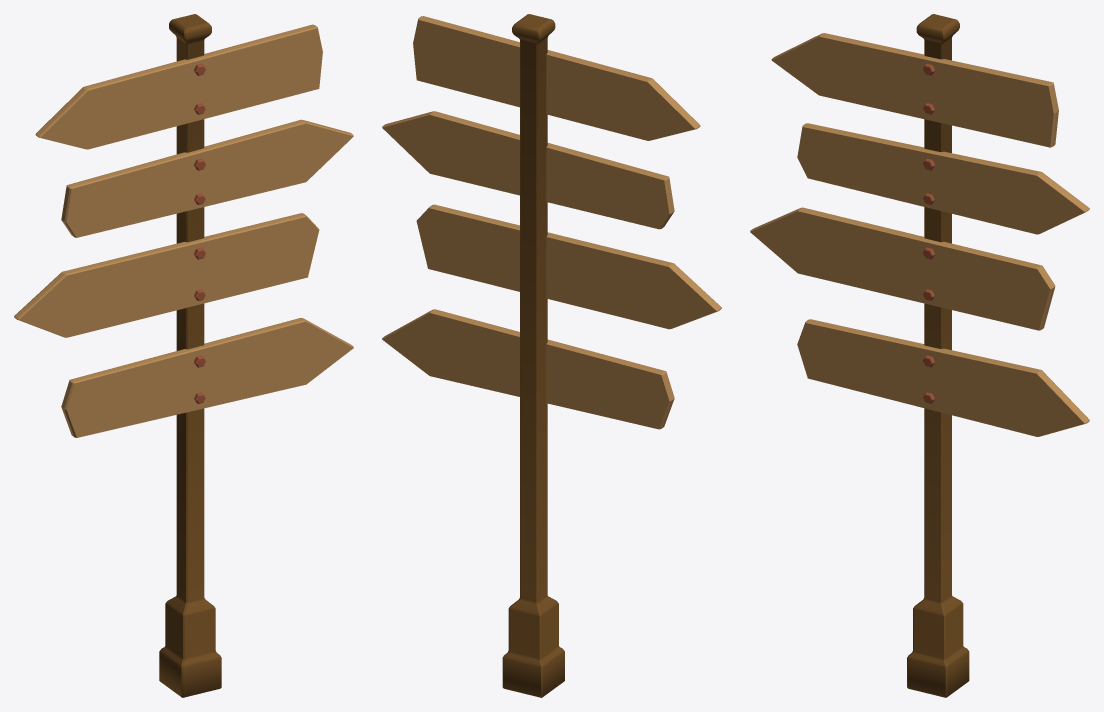
The model's file is props_74.gltf.
The picture shows the model from 3 angles, left to right: view 1: azimuth 30°, elevation 25°; view 2: azimuth 150°, elevation 25°; view 3: azimuth 330°, elevation 25°; orthographic projection.
Parts seen in each view (by area): view 1: props_74; view 2: props_74; view 3: props_74.
Boxes of the visible parts, x1,y1,x2,y2 form: props_74: (14,14,353,697); props_74: (382,14,721,697); props_74: (750,14,1089,697).
Size of the model in its own units: 1.48 by 2.79 by 0.1777.
Materials: 1 (1 with a texture image).
